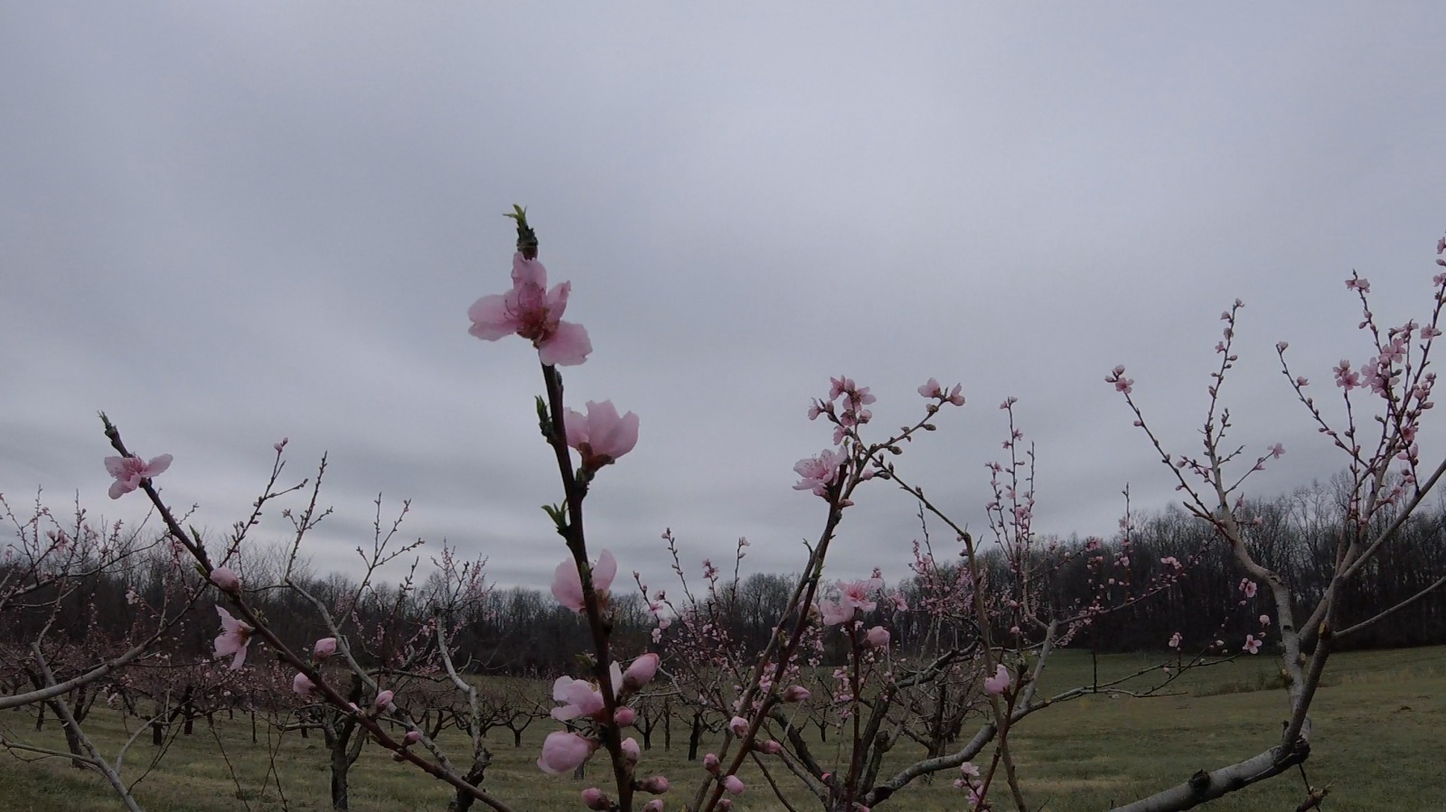flower: (468, 251, 593, 367), (1333, 324, 1410, 398), (807, 569, 888, 630), (564, 400, 638, 462), (812, 376, 877, 446), (105, 452, 174, 500), (793, 441, 848, 497), (212, 605, 256, 673), (550, 677, 606, 729), (538, 728, 599, 774), (609, 654, 661, 701), (552, 560, 586, 616), (589, 550, 617, 596), (652, 612, 684, 650), (210, 561, 244, 588), (985, 665, 1014, 694), (861, 627, 891, 653), (293, 673, 317, 703), (859, 458, 885, 481), (1346, 270, 1370, 294), (621, 738, 644, 762), (918, 378, 941, 399), (643, 597, 663, 621), (314, 639, 340, 657), (946, 383, 966, 406), (614, 706, 637, 726), (722, 776, 745, 796), (1401, 421, 1419, 445), (1421, 324, 1442, 344), (785, 686, 812, 701), (1243, 635, 1263, 654), (1291, 377, 1310, 395), (1116, 378, 1135, 396), (582, 788, 600, 807), (375, 688, 394, 705), (1268, 443, 1286, 460), (808, 398, 821, 421), (1411, 389, 1431, 403), (966, 789, 981, 807), (962, 762, 981, 776), (944, 779, 968, 789), (730, 716, 749, 728), (1408, 443, 1419, 463), (1169, 633, 1183, 648), (1245, 582, 1258, 598), (1433, 274, 1446, 288), (1437, 238, 1446, 255), (1397, 449, 1409, 461), (1276, 341, 1289, 352), (1260, 615, 1271, 628), (977, 786, 984, 798), (1422, 380, 1432, 388), (1118, 370, 1124, 377), (862, 630, 866, 633), (1433, 316, 1434, 324)
